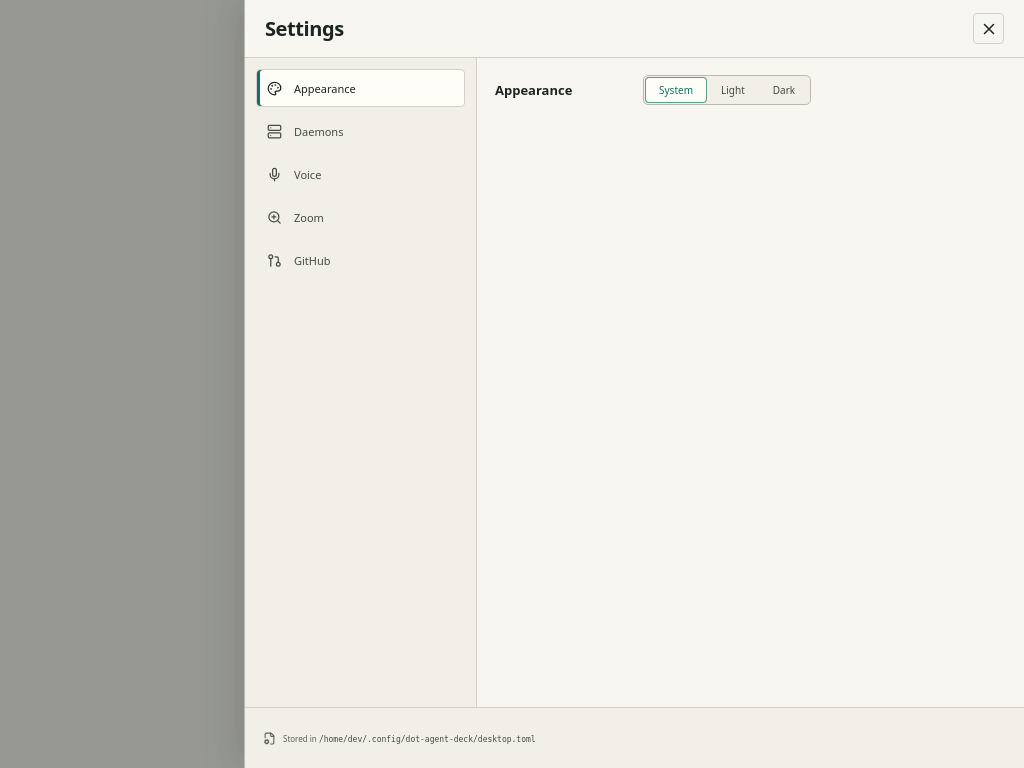
Test: SettingsSheet section column › switches to the Zoom section and renders its row
The width and height of the screenshot is (1024, 768).
Click the button with test id "settings-section-zoom": (360, 217) [256,198,465,236]
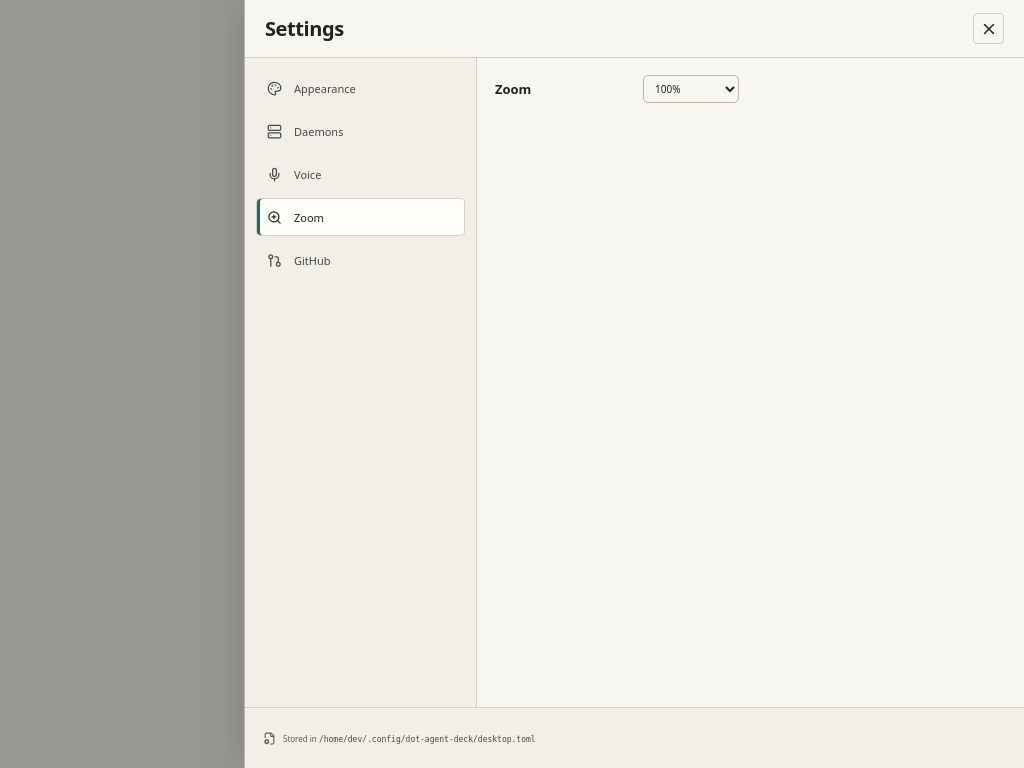
Check: the element with test id "settings-panel-zoom" is shown, box [495,75,739,103]
Check: the dropdown labelled "Zoom" is shown, box [643,75,739,103]
